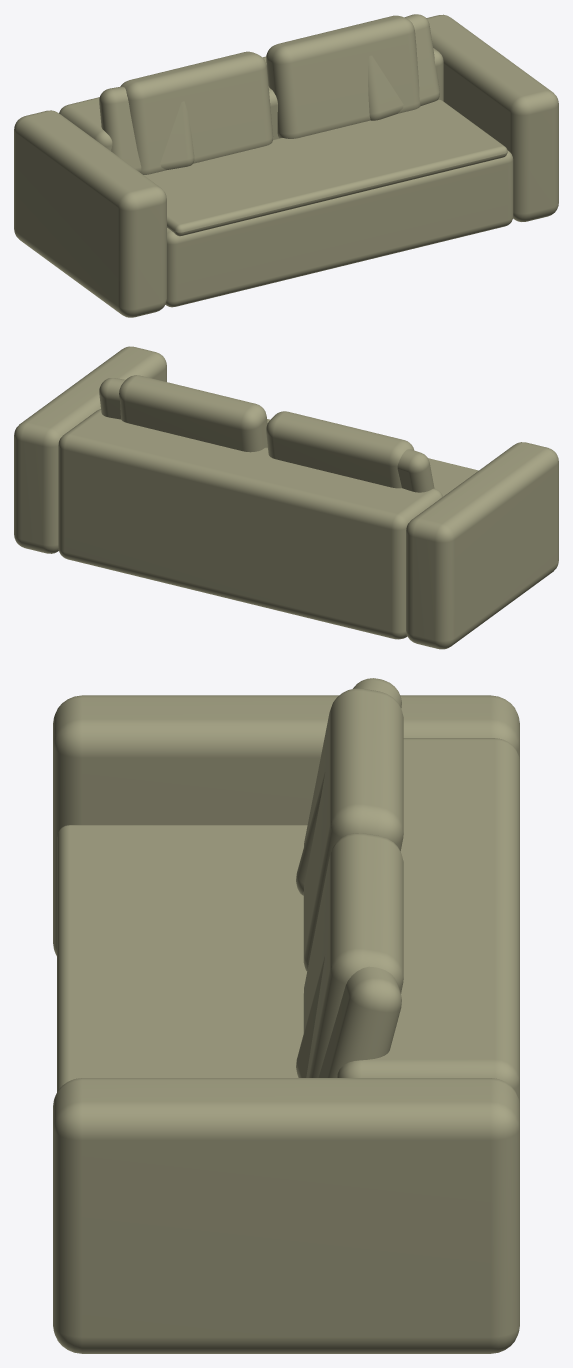
The model's file is sofa_boucle.glb.
The picture shows the model from 3 angles, top to bottom: view 1: azimuth 30°, elevation 25°; view 2: azimuth 150°, elevation 25°; view 3: azimuth 270°, elevation 25°; orthographic projection. The views are drawn at different scales.
Parts seen in each view (by area): view 1: base, arm-1, seat, arm1, cushion1, cushion0, small0, small1, back; view 2: back, arm-1, arm1, cushion1, cushion0, small0, seat, small1; view 3: arm1, seat, back, arm-1, cushion0, cushion1, small1, small0.
Part boxes in pixels (bbox=[...]): base: bbox=[165, 150, 513, 307]; arm-1: bbox=[14, 110, 166, 317]; seat: bbox=[144, 99, 507, 236]; arm1: bbox=[426, 14, 558, 221]; cushion1: bbox=[266, 15, 420, 138]; cushion0: bbox=[120, 51, 273, 174]; small0: bbox=[99, 86, 194, 172]; small1: bbox=[368, 14, 439, 120]; back: bbox=[59, 48, 443, 150]; back: bbox=[58, 409, 442, 639]; arm-1: bbox=[406, 442, 558, 649]; arm1: bbox=[14, 346, 166, 553]; cushion1: bbox=[119, 375, 267, 452]; cushion0: bbox=[266, 411, 413, 488]; small0: bbox=[397, 449, 434, 492]; seat: bbox=[267, 419, 478, 496]; small1: bbox=[99, 378, 125, 419]; arm1: bbox=[53, 1078, 519, 1353]; seat: bbox=[57, 825, 307, 1091]; back: bbox=[337, 738, 519, 1104]; arm-1: bbox=[53, 695, 519, 955]; cushion0: bbox=[303, 688, 403, 971]; cushion1: bbox=[303, 833, 403, 1077]; small1: bbox=[296, 954, 401, 1077]; small0: bbox=[296, 678, 401, 895].
Size of the model in its own units: 2.43 by 0.8721 by 1.12.
